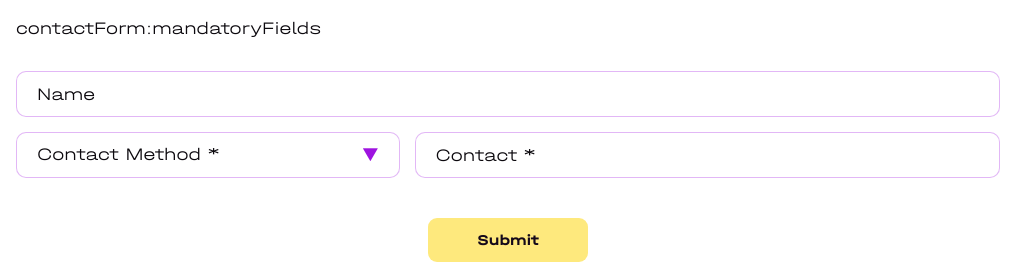
Test: ContactForm (integration) › prevents a second submission while the first is still in flight
Select "Email" in the dropdown named "Contact Method": (208, 155) [16,132,400,178]
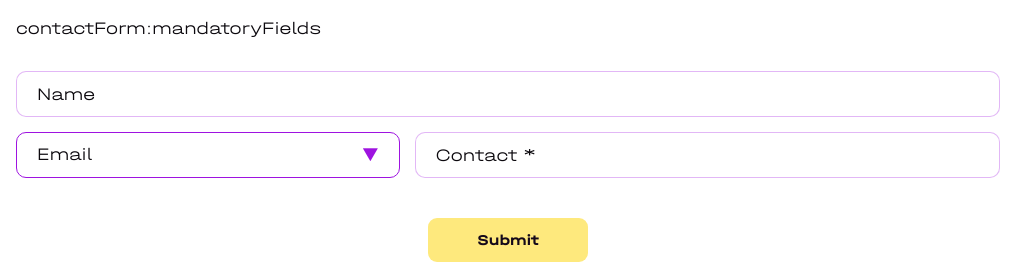
In the field labelled "Contact": (707, 155) [414,132,1000,178], type "test@example.com"
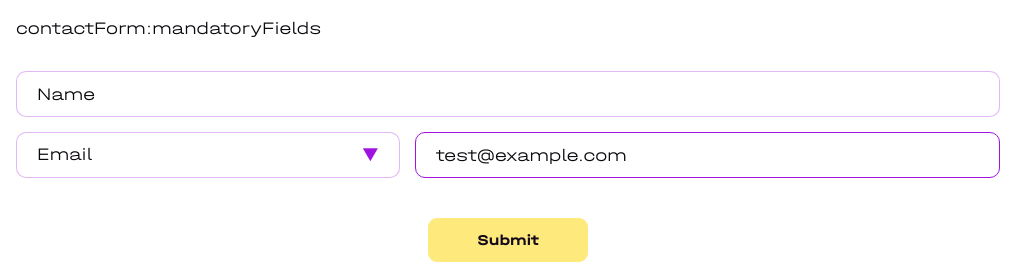
Click the button "Submit": click(508, 240) [428,218,588,262]
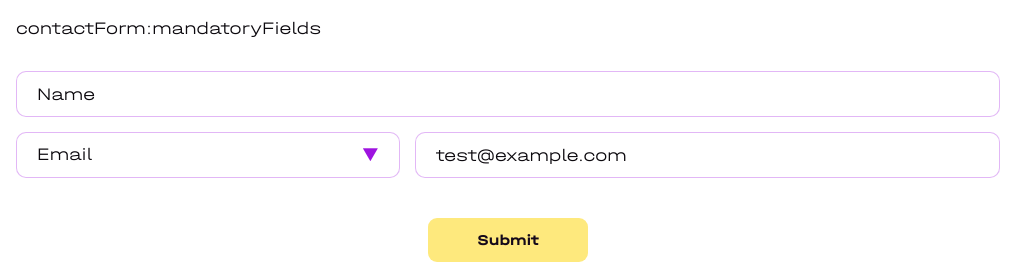
Click the button "Submit": click(508, 240) [428,218,588,262]
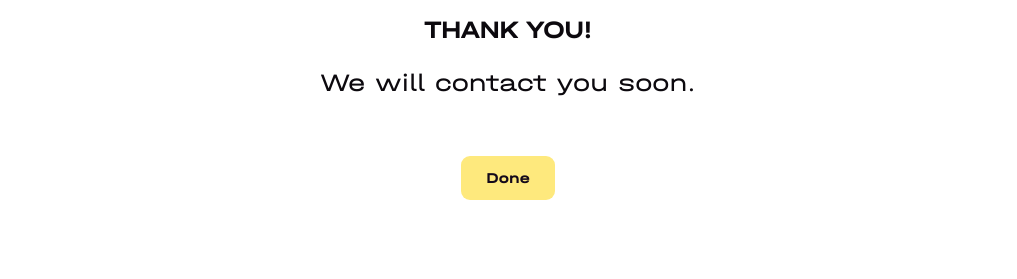
Expected: the heading "Thank you!" is shown, [424,16,592,44]
